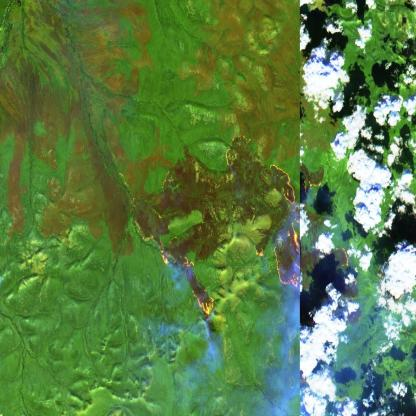fire: (132, 163, 228, 323), (246, 155, 301, 299)
